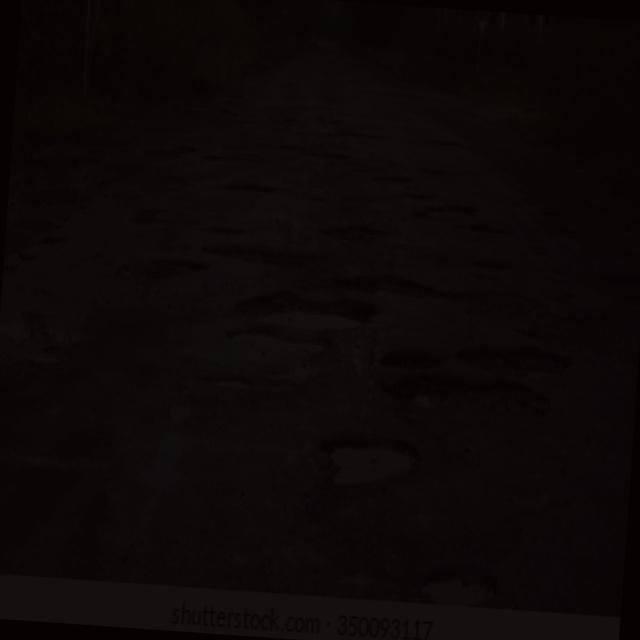Pothole: (338, 270, 540, 328), (386, 377, 554, 428), (232, 287, 384, 342), (216, 323, 334, 392), (310, 429, 424, 495), (207, 236, 341, 284), (144, 404, 198, 489), (116, 252, 220, 294), (416, 556, 503, 605), (452, 343, 569, 376), (368, 342, 447, 384), (403, 208, 512, 235), (329, 220, 393, 260), (280, 138, 358, 168), (360, 168, 418, 198), (207, 148, 255, 167), (227, 182, 284, 194), (411, 190, 448, 206), (418, 140, 466, 150)
